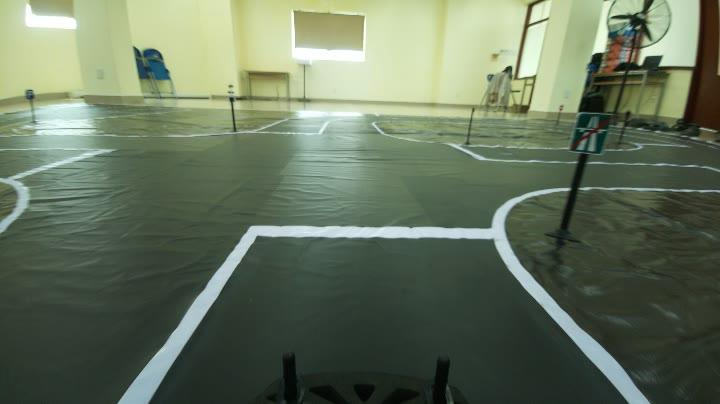highway_exit: (571, 106, 616, 164)
